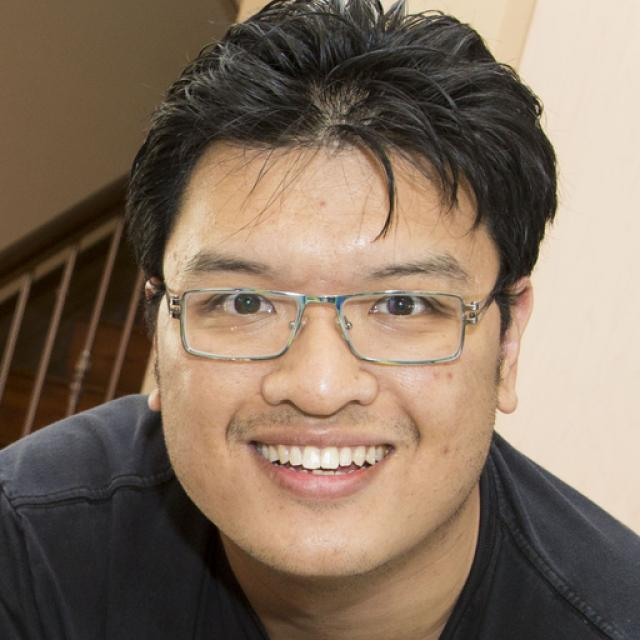Acne: (428, 361, 460, 388), (315, 188, 337, 213)
